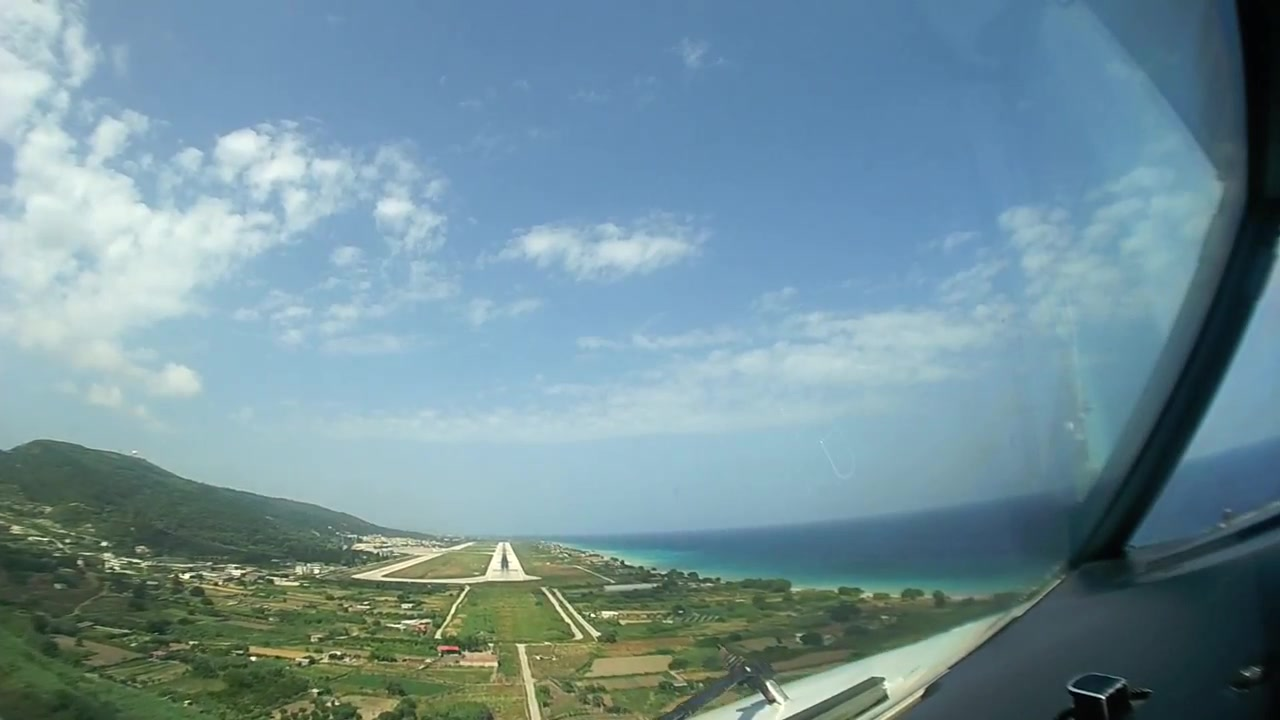runway: (483, 542, 528, 582)
